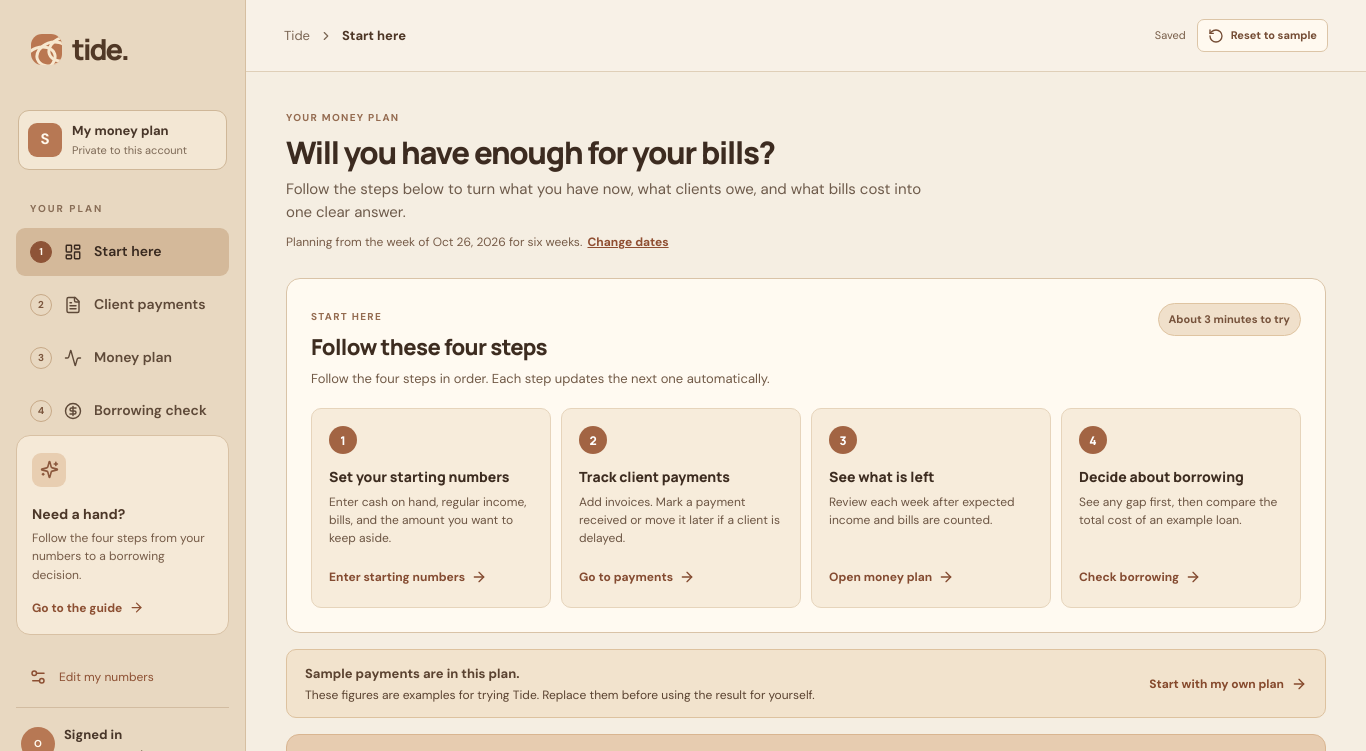
Test: connected dashboard actions › lets a user move the six-week plan to a new start date
Click the button "Change dates" at (628, 242), box x1=586 y1=233 x2=671 y2=251
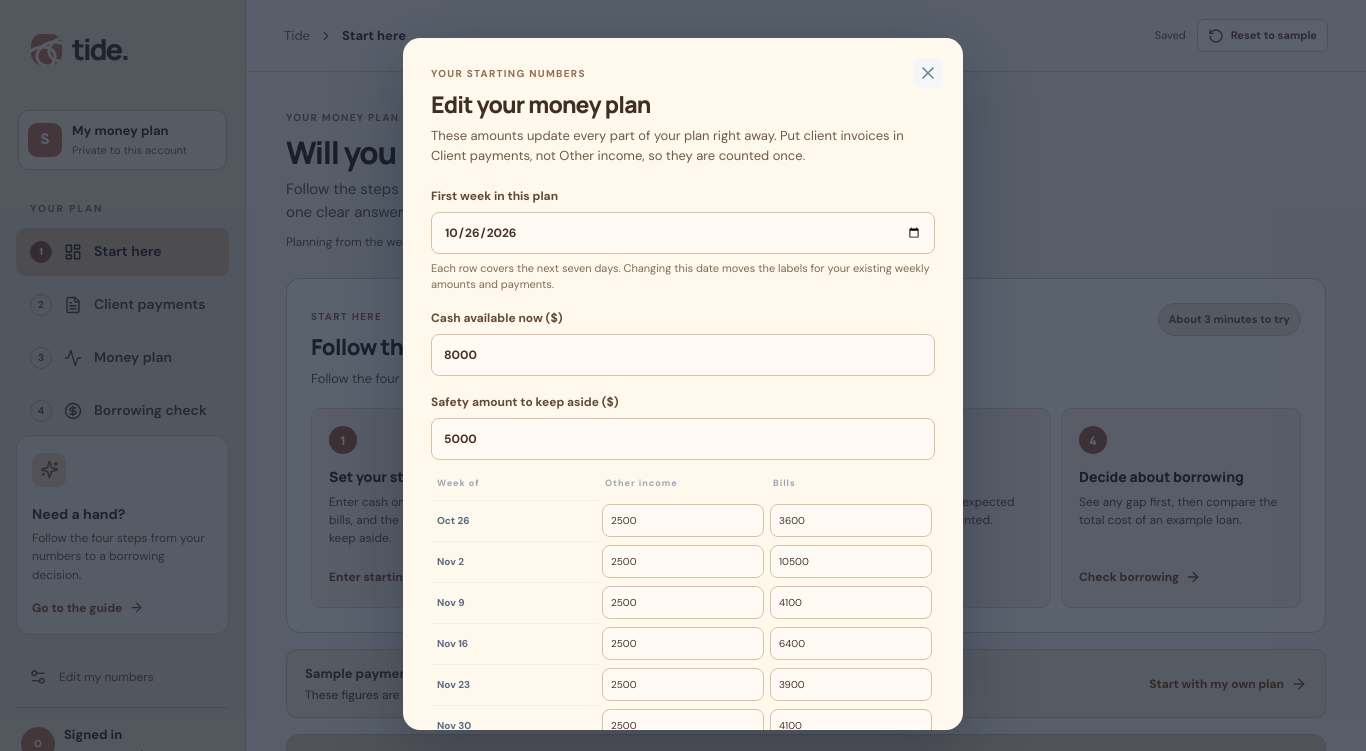
Type "2027-01-04" into the date field labelled "First week in this plan" at (683, 233), box x1=431 y1=212 x2=935 y2=254
(page scrolled)
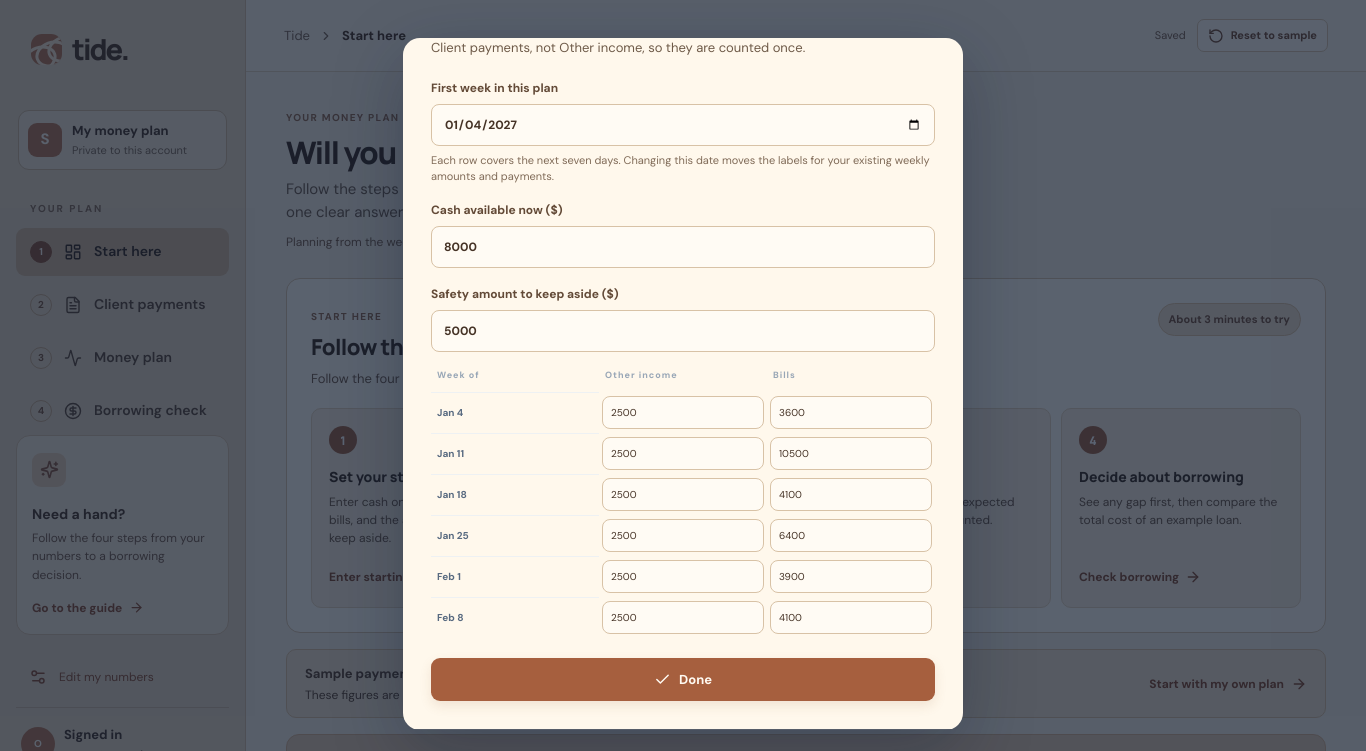
Check: the number field named "Bills week of Jan 11" is shown, box x1=770 y1=437 x2=932 y2=470
Click the button "Done" at (683, 679), box x1=431 y1=658 x2=935 y2=701
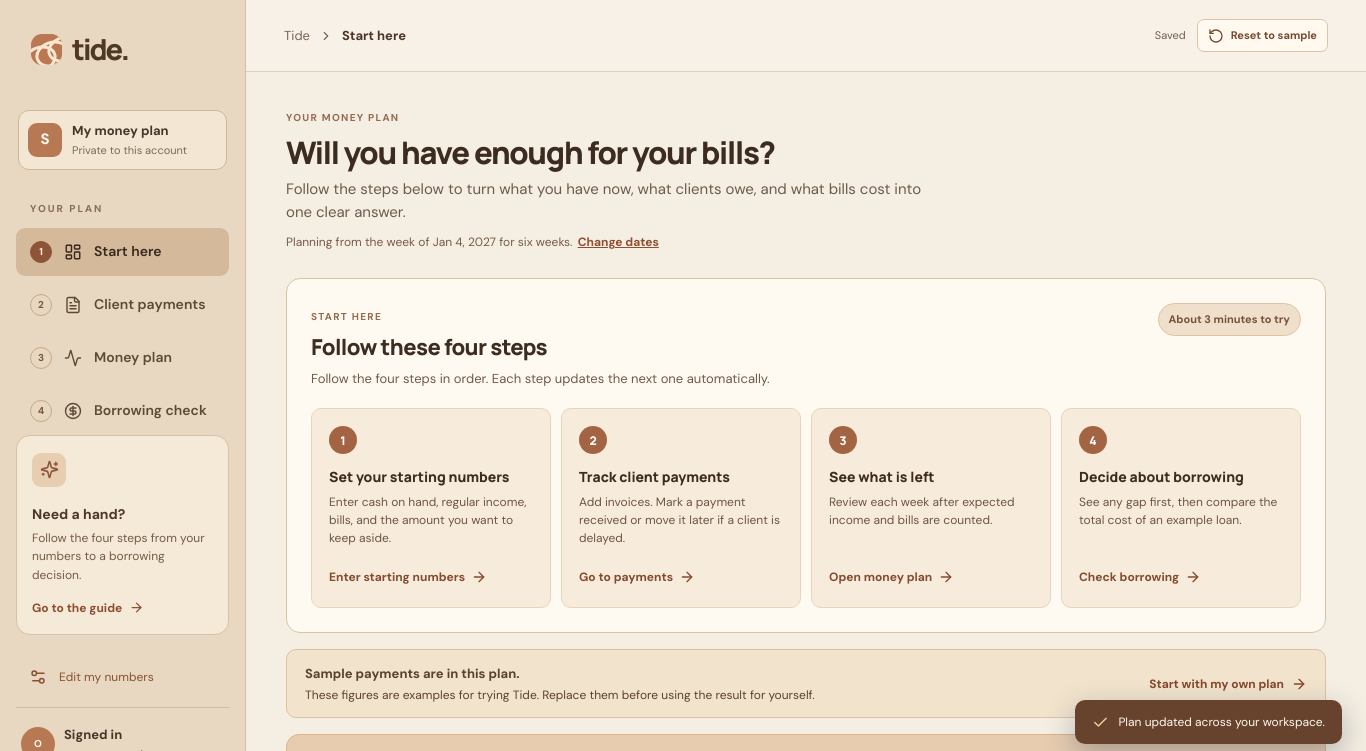
Check: the text "Planning from the week of Jan 4, 2027" is shown, box x1=286 y1=233 x2=661 y2=251
Click the button "2 Client payments" at (122, 304), box x1=16 y1=280 x2=229 y2=328
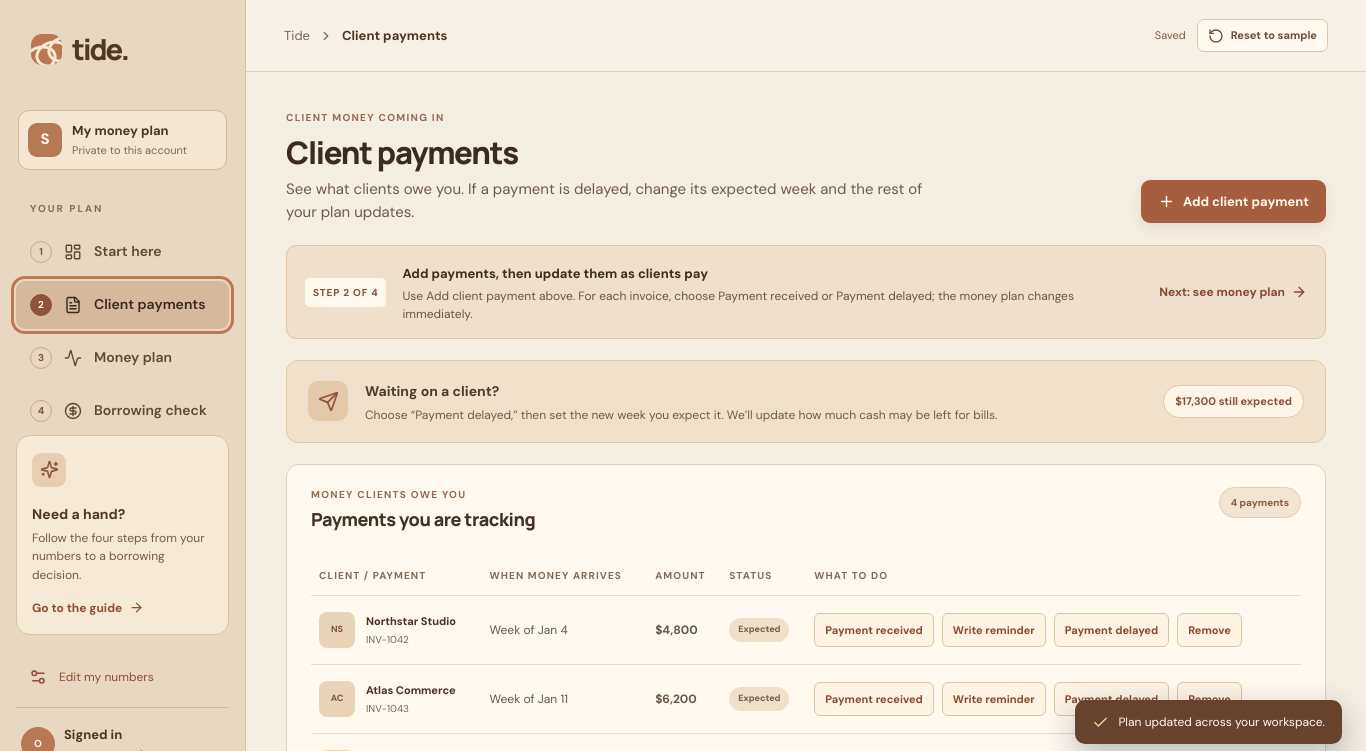
Check: the text "Week of Jan 11" is shown, box x1=482 y1=664 x2=647 y2=734
